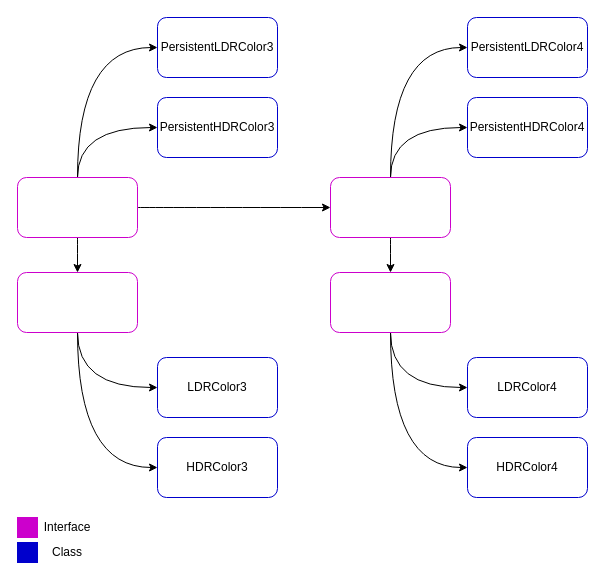
This 605x580 diagram has some shape labels left out. The centre of each missing label's shape, as x and y in pixels:
"IColor3 (Read / Write)" goes at (x=77, y=302).
"IColor3Base (Read)" goes at (x=77, y=207).
"IColor4 (Read / Write)" goes at (x=390, y=302).
"IColor4Base (Read)" goes at (x=390, y=207).
